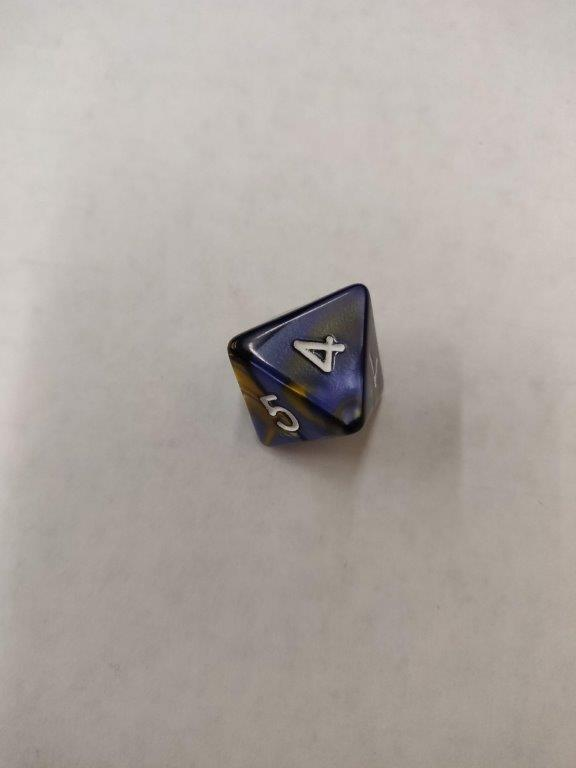d8-4: (228, 279, 390, 452)
